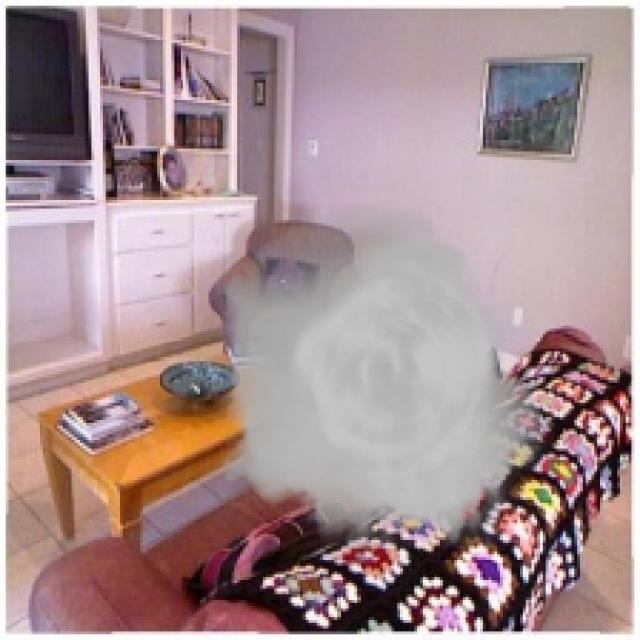smoke: (206, 203, 554, 548)
